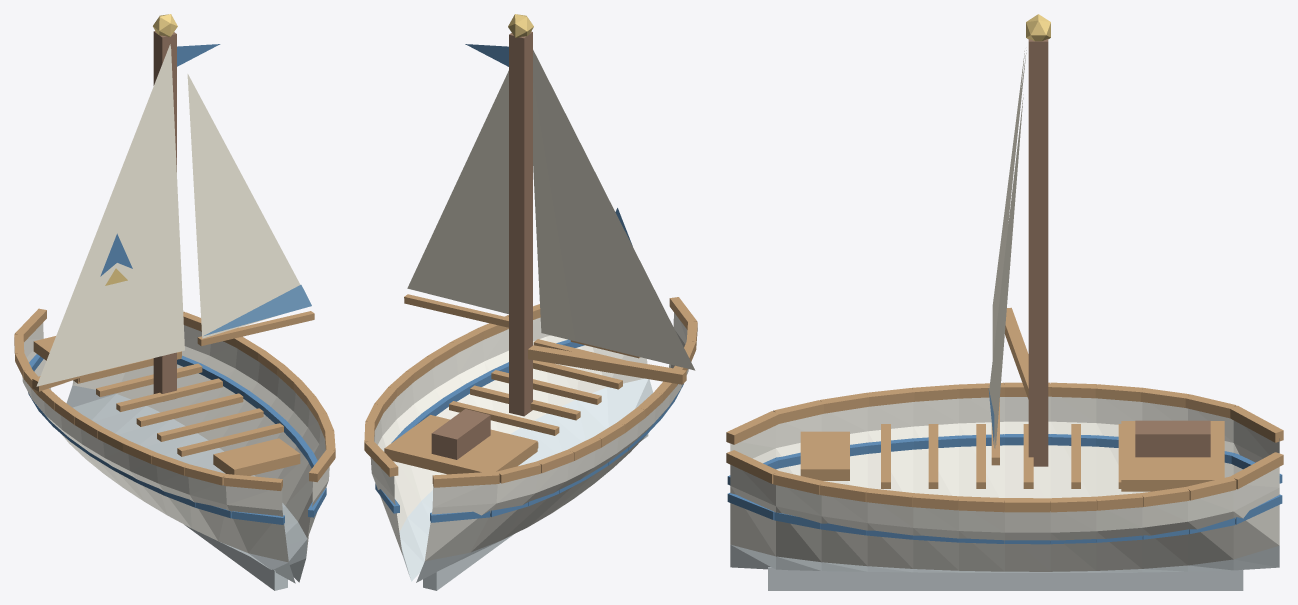
File: sailboat.glb
3 renders of one model, left to right at view 1: azimuth 30°, elevation 25°; view 2: azimuth 150°, elevation 25°; view 3: azimuth 270°, elevation 25°, orthographic. The views are drawn at different scales.
Visible parts, largest first — view 1: sailboat_fabric_cream, sailboat_hull_white, sailboat_wood, sailboat_hull_shadow, sailboat_navy, sailboat_wood_dark, sailboat_blue, sailboat_gold; view 2: sailboat_fabric_cream, sailboat_hull_white, sailboat_wood, sailboat_wood_dark, sailboat_hull_shadow, sailboat_navy, sailboat_gold; view 3: sailboat_hull_white, sailboat_wood, sailboat_hull_shadow, sailboat_wood_dark, sailboat_navy, sailboat_fabric_cream.
Part boxes in pixels (x1,y1,x2,y2): sailboat_fabric_cream: (36, 44, 300, 386); sailboat_hull_white: (22, 323, 329, 562); sailboat_wood: (14, 308, 335, 490); sailboat_hull_shadow: (66, 385, 307, 590); sailboat_navy: (28, 44, 326, 524); sailboat_wood_dark: (153, 31, 176, 401); sailboat_blue: (204, 285, 311, 335); sailboat_gold: (105, 14, 177, 285); sailboat_fabric_cream: (407, 50, 695, 370); sailboat_hull_white: (370, 312, 688, 561); sailboat_wood: (364, 294, 697, 487); sailboat_wood_dark: (431, 31, 532, 459); sailboat_hull_shadow: (399, 378, 653, 590); sailboat_navy: (375, 44, 683, 522); sailboat_gold: (508, 14, 533, 37); sailboat_hull_white: (730, 396, 1279, 571); sailboat_wood: (726, 307, 1283, 512); sailboat_hull_shadow: (730, 544, 1279, 590); sailboat_wood_dark: (1028, 39, 1210, 466); sailboat_navy: (727, 434, 1282, 544); sailboat_fabric_cream: (989, 50, 1026, 448).
Size of the model in its own units: 2.28 by 3.84 by 3.4.
